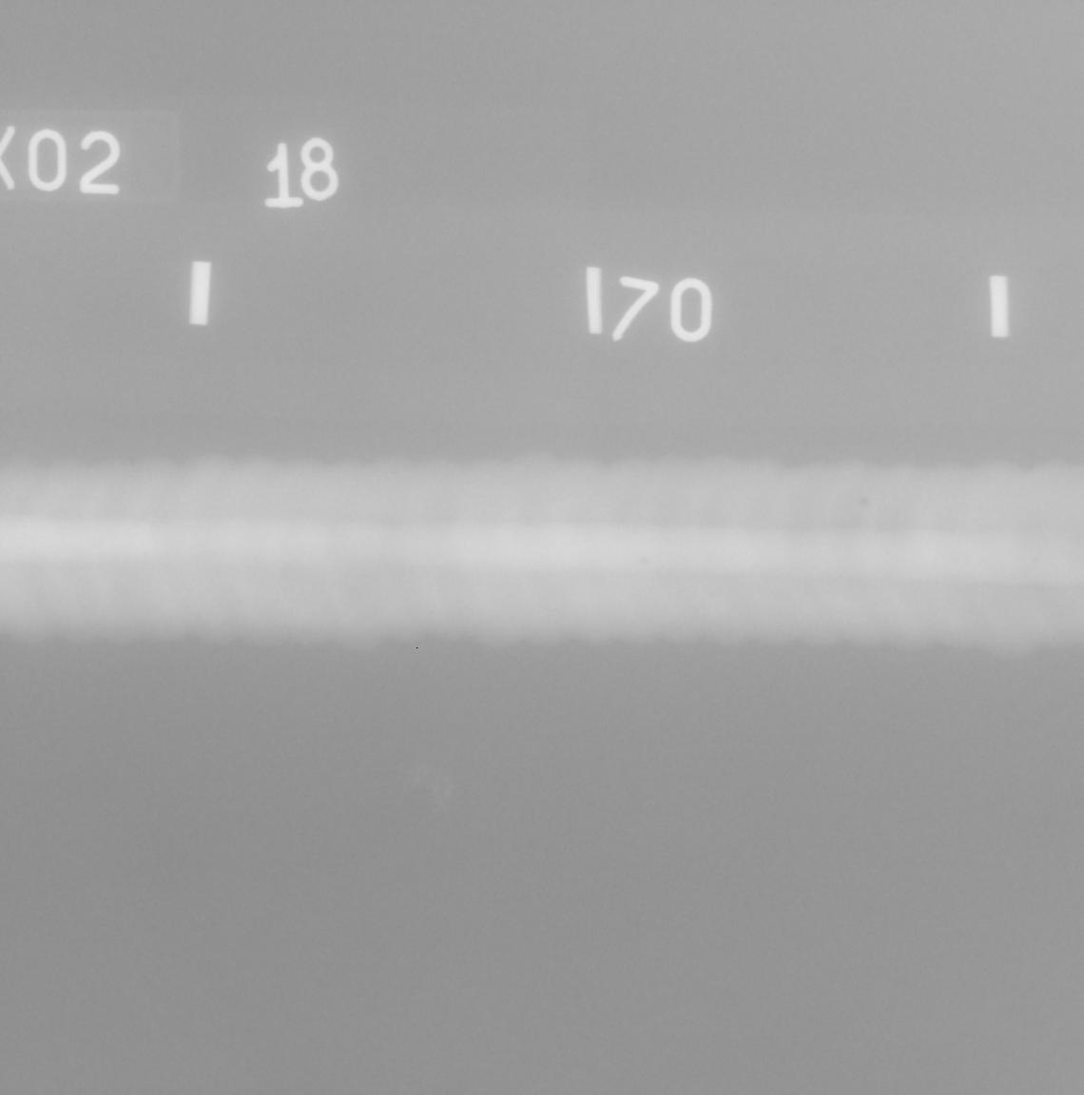Pore/Porosity: (859, 498, 870, 507), (639, 557, 649, 565), (143, 552, 151, 560), (1032, 556, 1037, 561)
